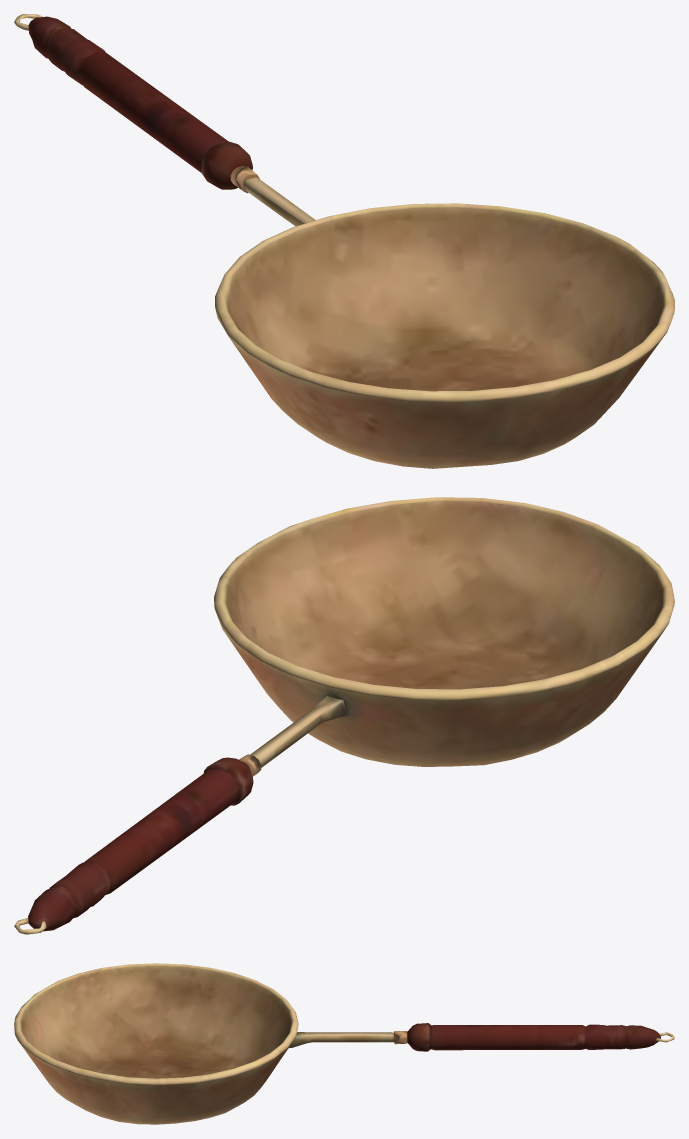
File: cc0_brass_pan.glb
3 views of the same model, one above another, from view 1: azimuth 30°, elevation 25°; view 2: azimuth 150°, elevation 25°; view 3: azimuth 270°, elevation 25° (orthographic). The views are drawn at different scales.
Visible parts, largest first — view 1: brass_pan_01; view 2: brass_pan_01; view 3: brass_pan_01.
Part boxes in pixels (x1,y1,x2,y2): brass_pan_01: (14, 14, 674, 468); brass_pan_01: (14, 497, 674, 934); brass_pan_01: (14, 963, 674, 1124).
Bounding box in the file's own units: 0.1913 × 0.0523 × 0.4496.
1 material, 1 textured.
